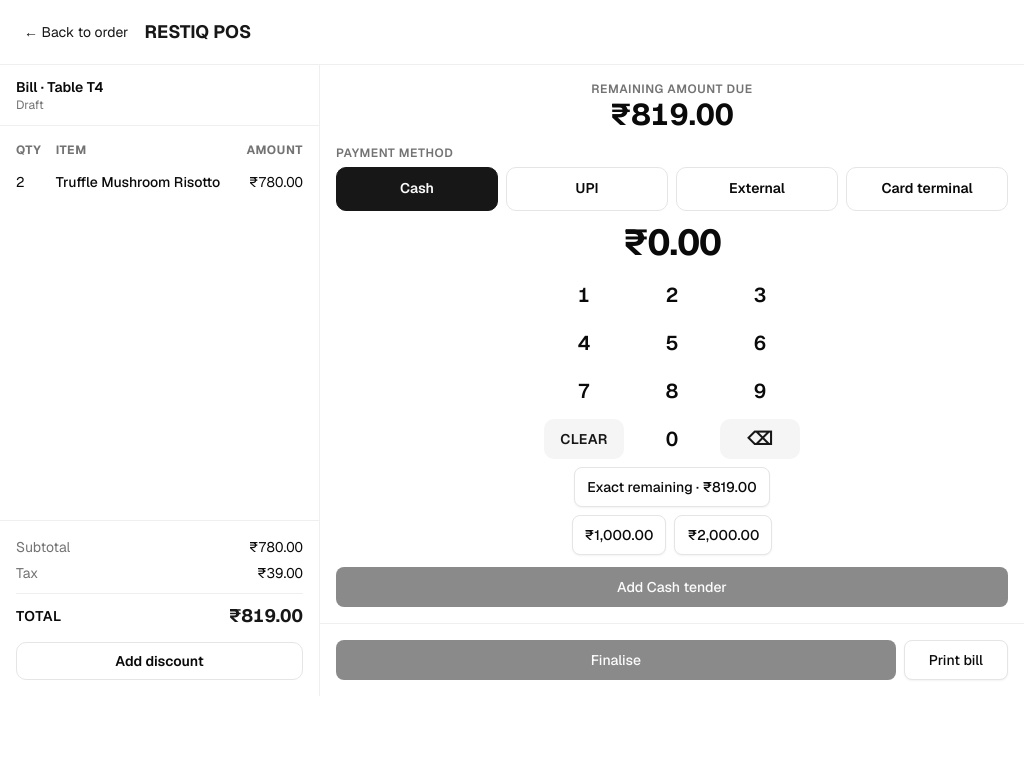
Test case: BillSettleView - print bill (issues #160, #224) › sends the open bill straight to the printer - no invoice page in between
Expected: the element with test id "bill-summary" is shown, [0,65,320,696]
Click the button with test id "print-bill": (956, 660) [904,640,1008,680]
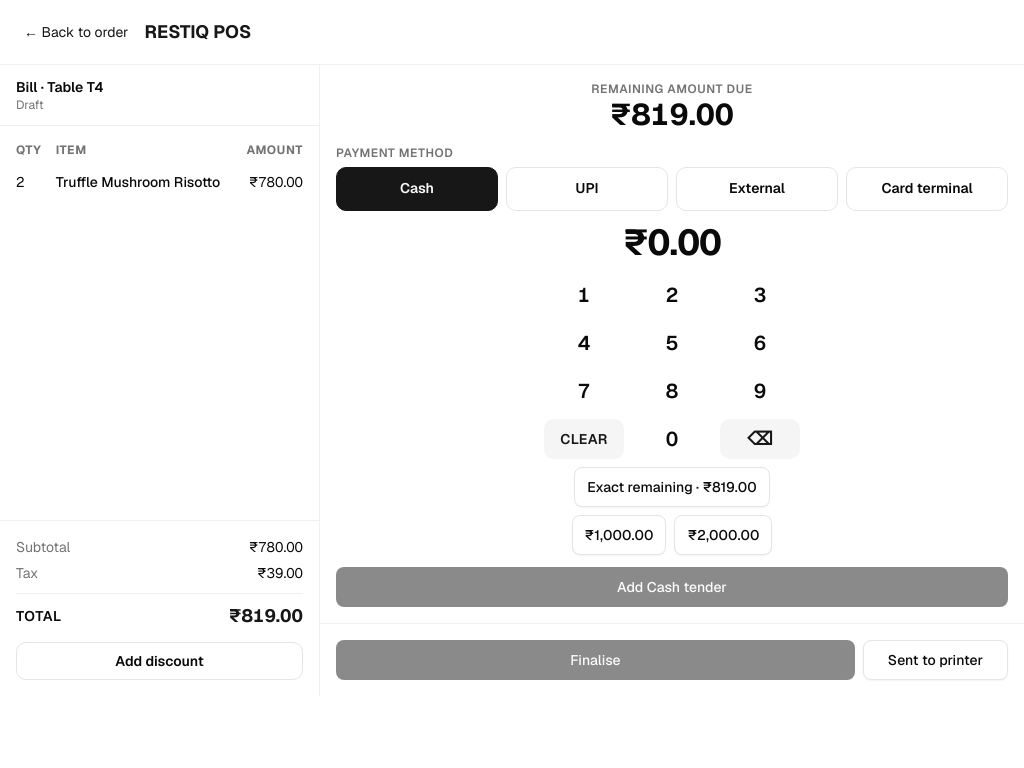
Now the button with test id "print-bill" reads "Sent to printer", box [863,640,1008,680]
